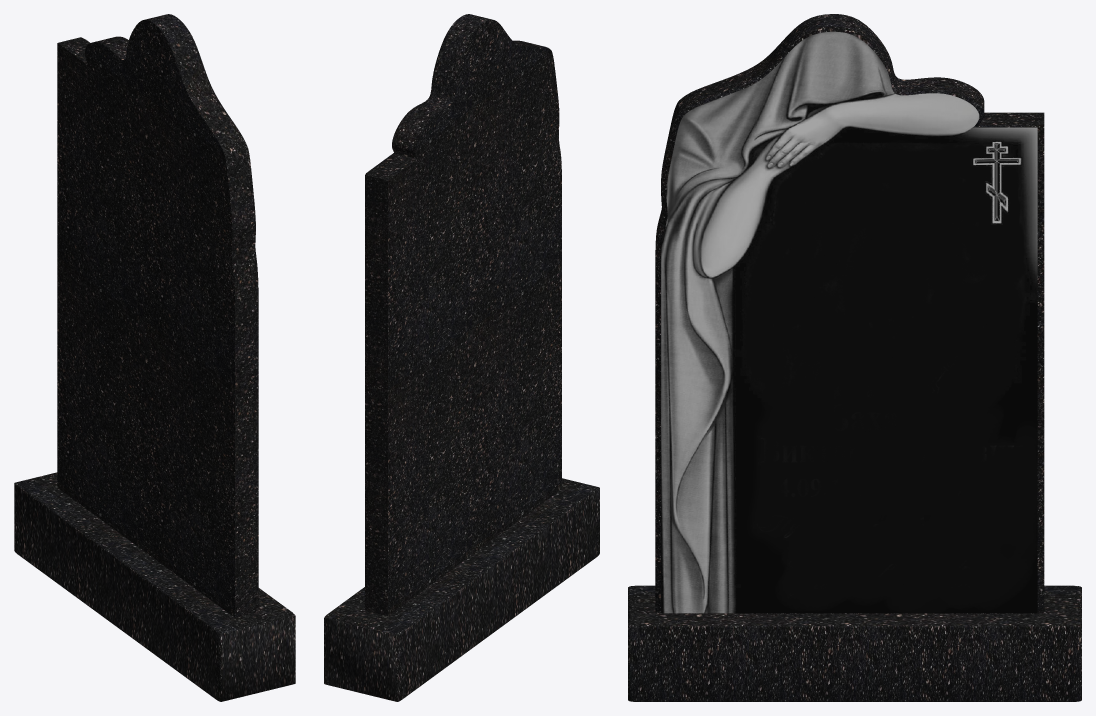
Rendered from Памятник Скорб мать [granite_1_orthodox] (100).glb.
3 renders of one model, left to right at view 1: azimuth 30°, elevation 25°; view 2: azimuth 150°, elevation 25°; view 3: azimuth 270°, elevation 25°, orthographic. The views are drawn at different scales.
Parts seen in each view (by area): view 1: Cube.010, Куб.004; view 2: Cube.010, Куб.004; view 3: Cube.010, Куб.004.
Part boxes in pixels (left/top/right/bottom): Cube.010: left=57, top=14, right=258, bottom=617; Куб.004: left=14, top=472, right=295, bottom=701; Cube.010: left=365, top=14, right=561, bottom=615; Куб.004: left=324, top=478, right=599, bottom=701; Cube.010: left=655, top=14, right=1044, bottom=613; Куб.004: left=628, top=585, right=1081, bottom=701.
Size of the model in its own units: 0.15 by 1.13 by 0.7.
Materials: 3 (3 with a texture image).
